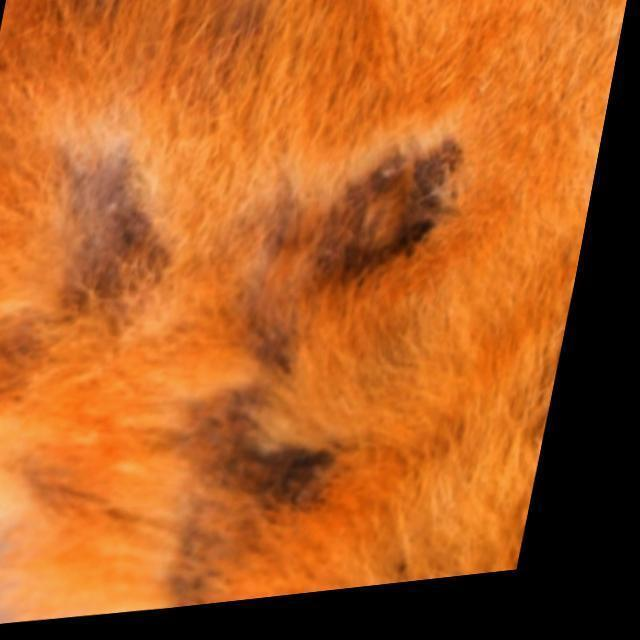fungal infection: (49, 134, 173, 334), (150, 391, 352, 502), (299, 137, 456, 263), (208, 142, 307, 266), (217, 286, 305, 384), (162, 484, 225, 610), (13, 458, 135, 518), (0, 307, 58, 400)
